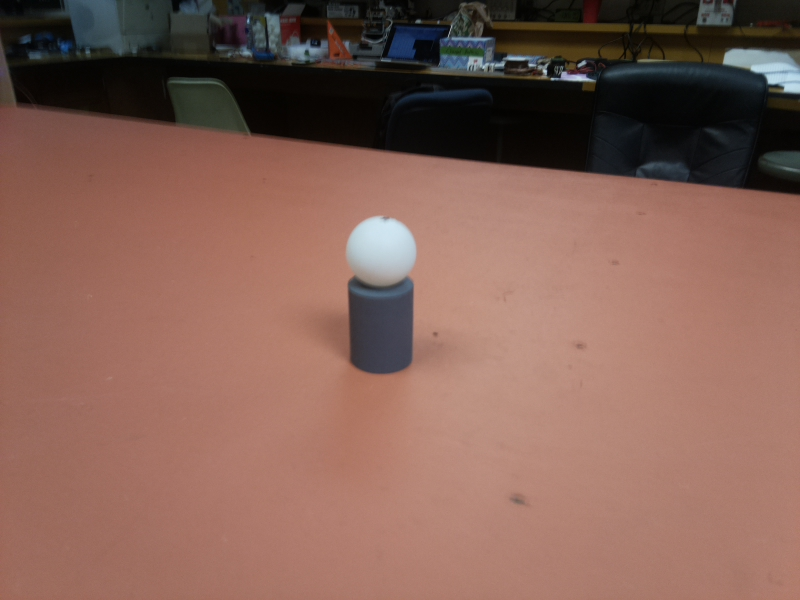obstacle: (344, 216, 417, 374)
